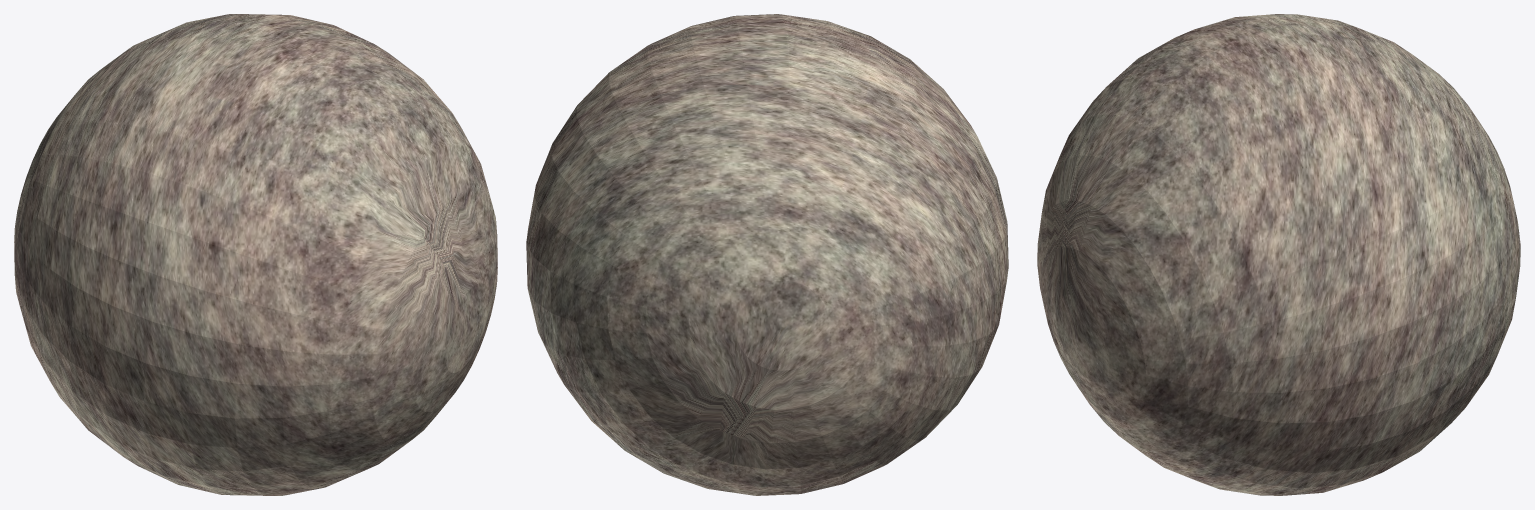
Rendered from Moon.obj.
3 renders of one model, left to right at view 1: azimuth 30°, elevation 25°; view 2: azimuth 150°, elevation 25°; view 3: azimuth 270°, elevation 25°, orthographic.
Parts seen in each view (by area): view 1: Sphere; view 2: Sphere; view 3: Sphere.
Boxes of the visible parts, <box> form: Sphere: <box>14,14,497,495</box>; Sphere: <box>526,14,1008,495</box>; Sphere: <box>1037,14,1520,495</box>.
Bounding box in the file's own units: 26 × 25.87 × 25.97.
Materials: 1 (1 with a texture image).
